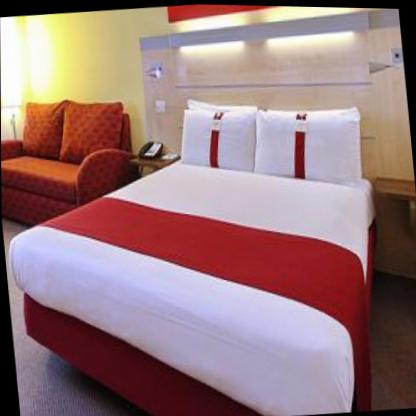Bed: (9, 98, 377, 416)
Sofa: (1, 94, 141, 231)
